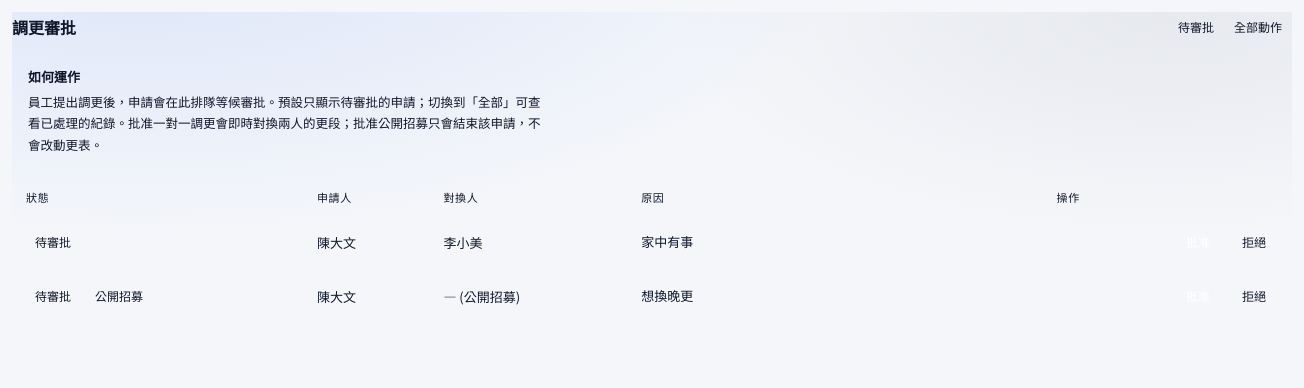
Test: Swaps (Task 9 contract) › defaults to pending filter; switching to all shows every row with the open-bid badge
Expected: the heading "調更審批" is shown, [12, 15, 76, 39]
Expected: the number of rows with test id "swap-row" is 2, [12, 215, 1292, 269]; [12, 269, 1292, 323]
Step 1. Click the button "全部動作" → (1258, 27), box [1224, 12, 1292, 42]
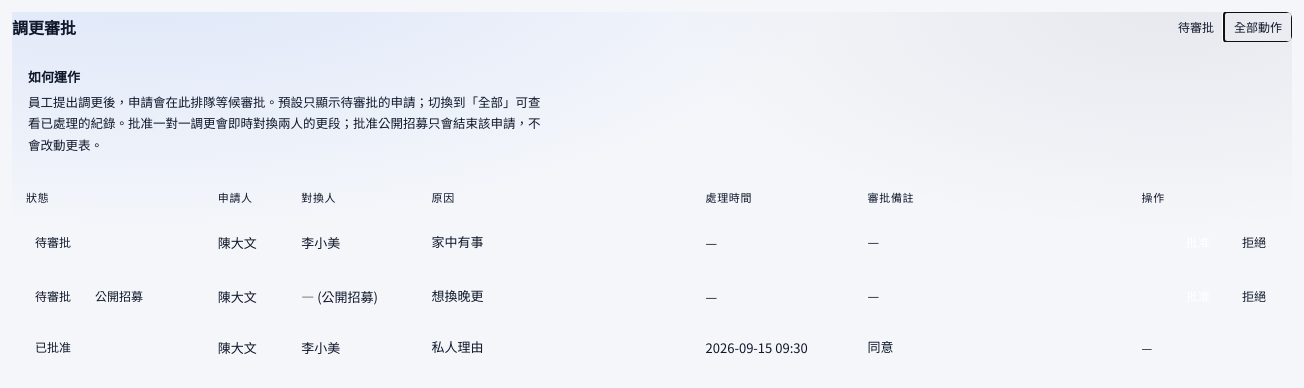
Expected: the number of rows with test id "swap-row" is 3, [12, 215, 1292, 269]; [12, 269, 1292, 323]; [12, 323, 1292, 371]
Expected: the row with test id "swap-row" that starts with "已批准" is shown, [12, 323, 1292, 371]
Expected: the row with test id "swap-row" shows "陳大文", [218, 338, 257, 357]
